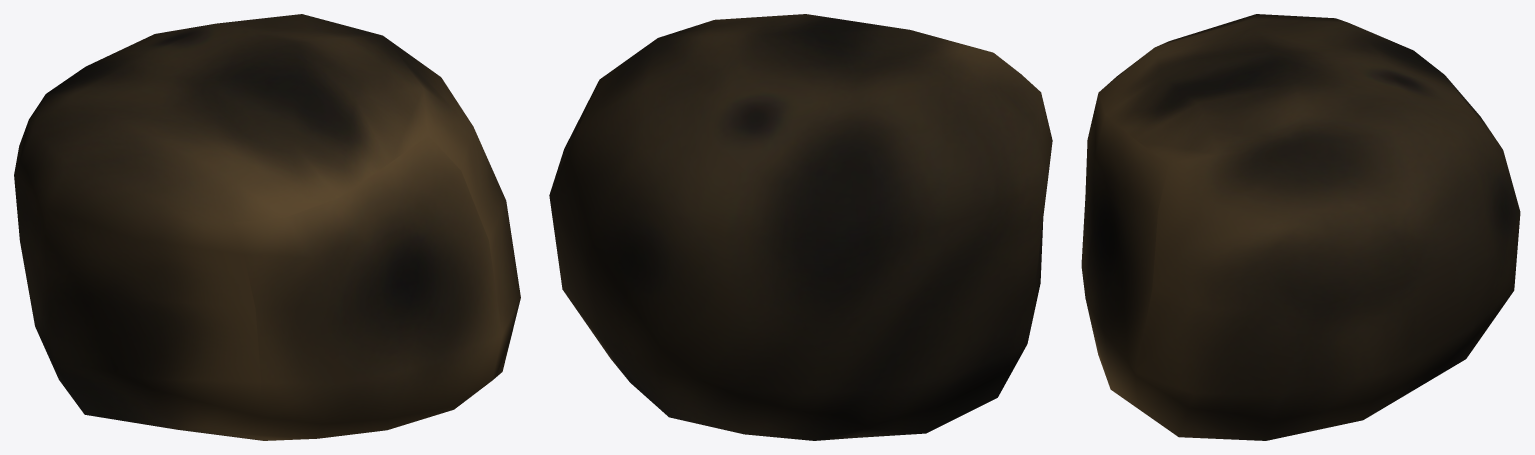
File: Meteorito1.fbx
3 renders of one model, left to right at view 1: azimuth 30°, elevation 25°; view 2: azimuth 150°, elevation 25°; view 3: azimuth 270°, elevation 25°, orthographic. The views are drawn at different scales.
Parts seen in each view (by area): view 1: pCube1; view 2: pCube1; view 3: pCube1.
Part boxes in pixels (x1=…): pCube1: x1=14, y1=14, x2=520, y2=440; pCube1: x1=549, y1=14, x2=1052, y2=440; pCube1: x1=1081, y1=14, x2=1520, y2=440.
Size of the model in its own units: 1.42 by 1 by 1.29.
1 material, 1 textured.
